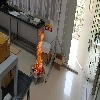fire: (33, 29, 44, 75)
